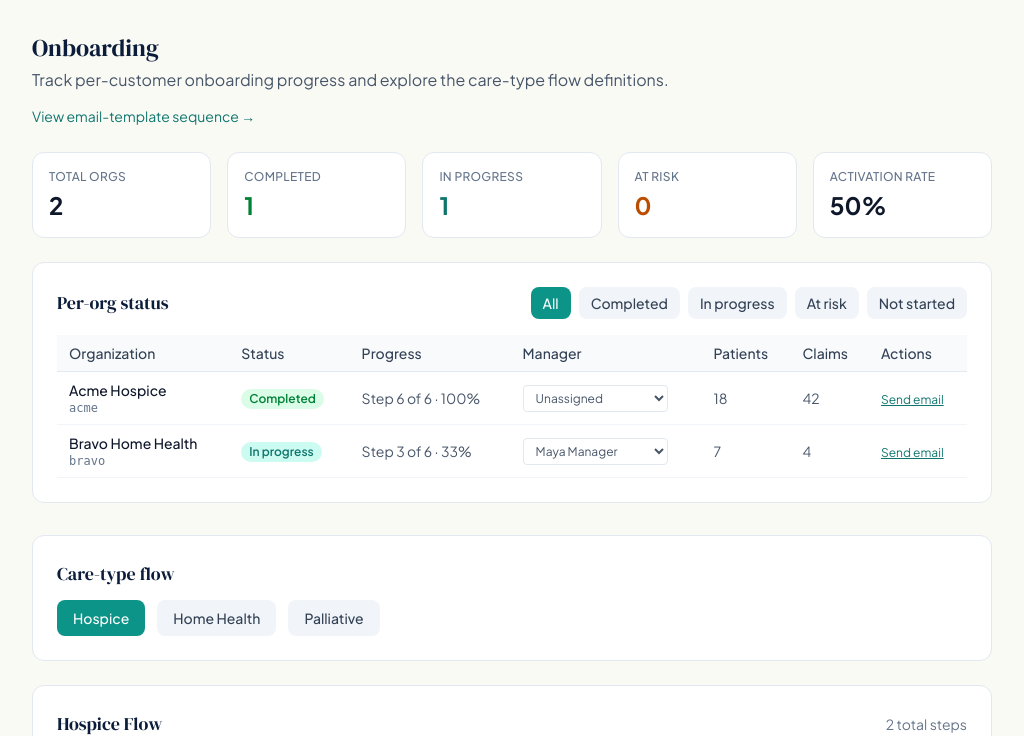
OnboardingPage › assigns a manager via the per-row dropdown
This screenshot has width=1024, height=736.
Expected: the text "Acme Hospice" is shown, [69,381,167,399]
Select "Owen Onboarding" in the dropdown named "Manager for Acme Hospice" in the row of "Acme Hospice" at (595, 398), box [523,384,668,412]
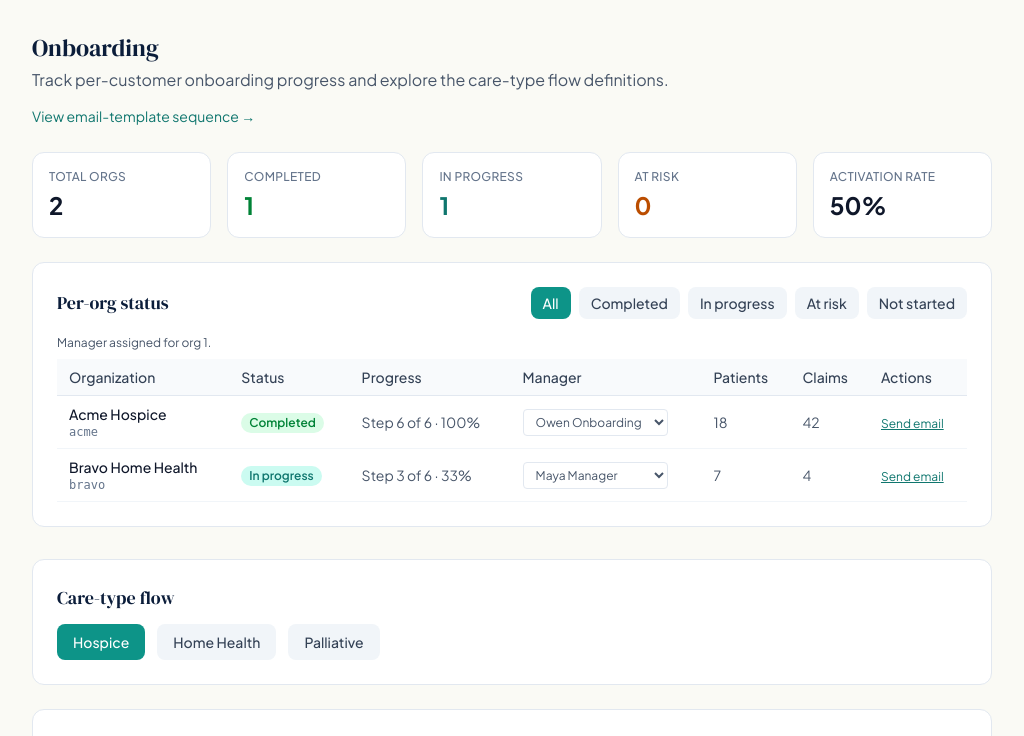
Expected: the message shows "Manager assigned for org 1", [57,335,211,350]
